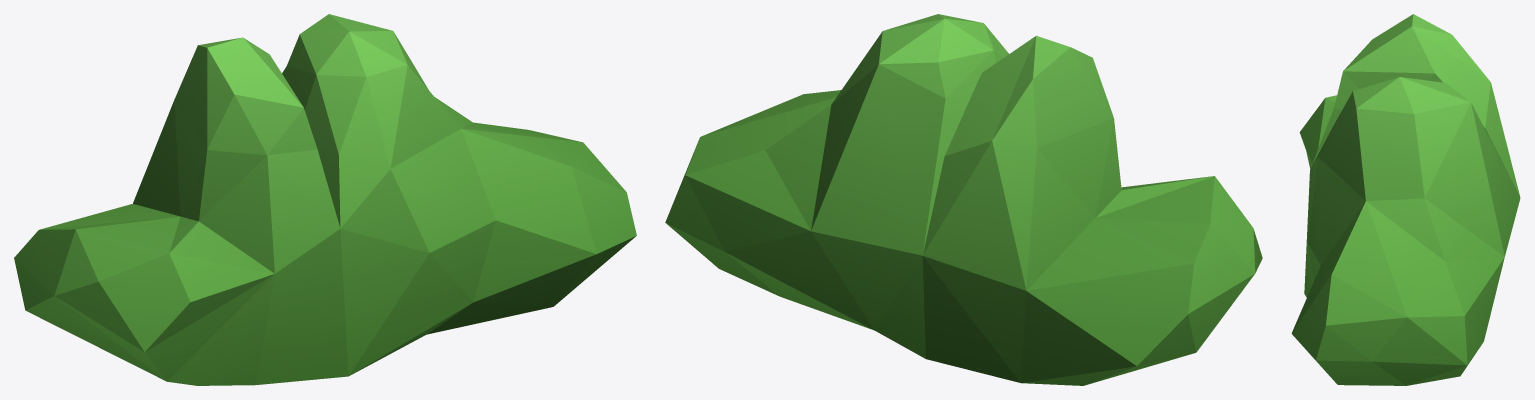
The model's file is Bush_Split_Green_01.fbx.
3 views of the same model, side by side, from view 1: azimuth 30°, elevation 25°; view 2: azimuth 150°, elevation 25°; view 3: azimuth 270°, elevation 25° (orthographic). The views are drawn at different scales.
Parts seen in each view (by area): view 1: Bush_Split_Green; view 2: Bush_Split_Green; view 3: Bush_Split_Green.
Boxes of the visible parts, bbox=[...] form: Bush_Split_Green: bbox=[14, 14, 636, 385]; Bush_Split_Green: bbox=[665, 14, 1262, 385]; Bush_Split_Green: bbox=[1291, 14, 1520, 385].
Bounding box in the file's own units: 2.75 × 1.45 × 1.2.
